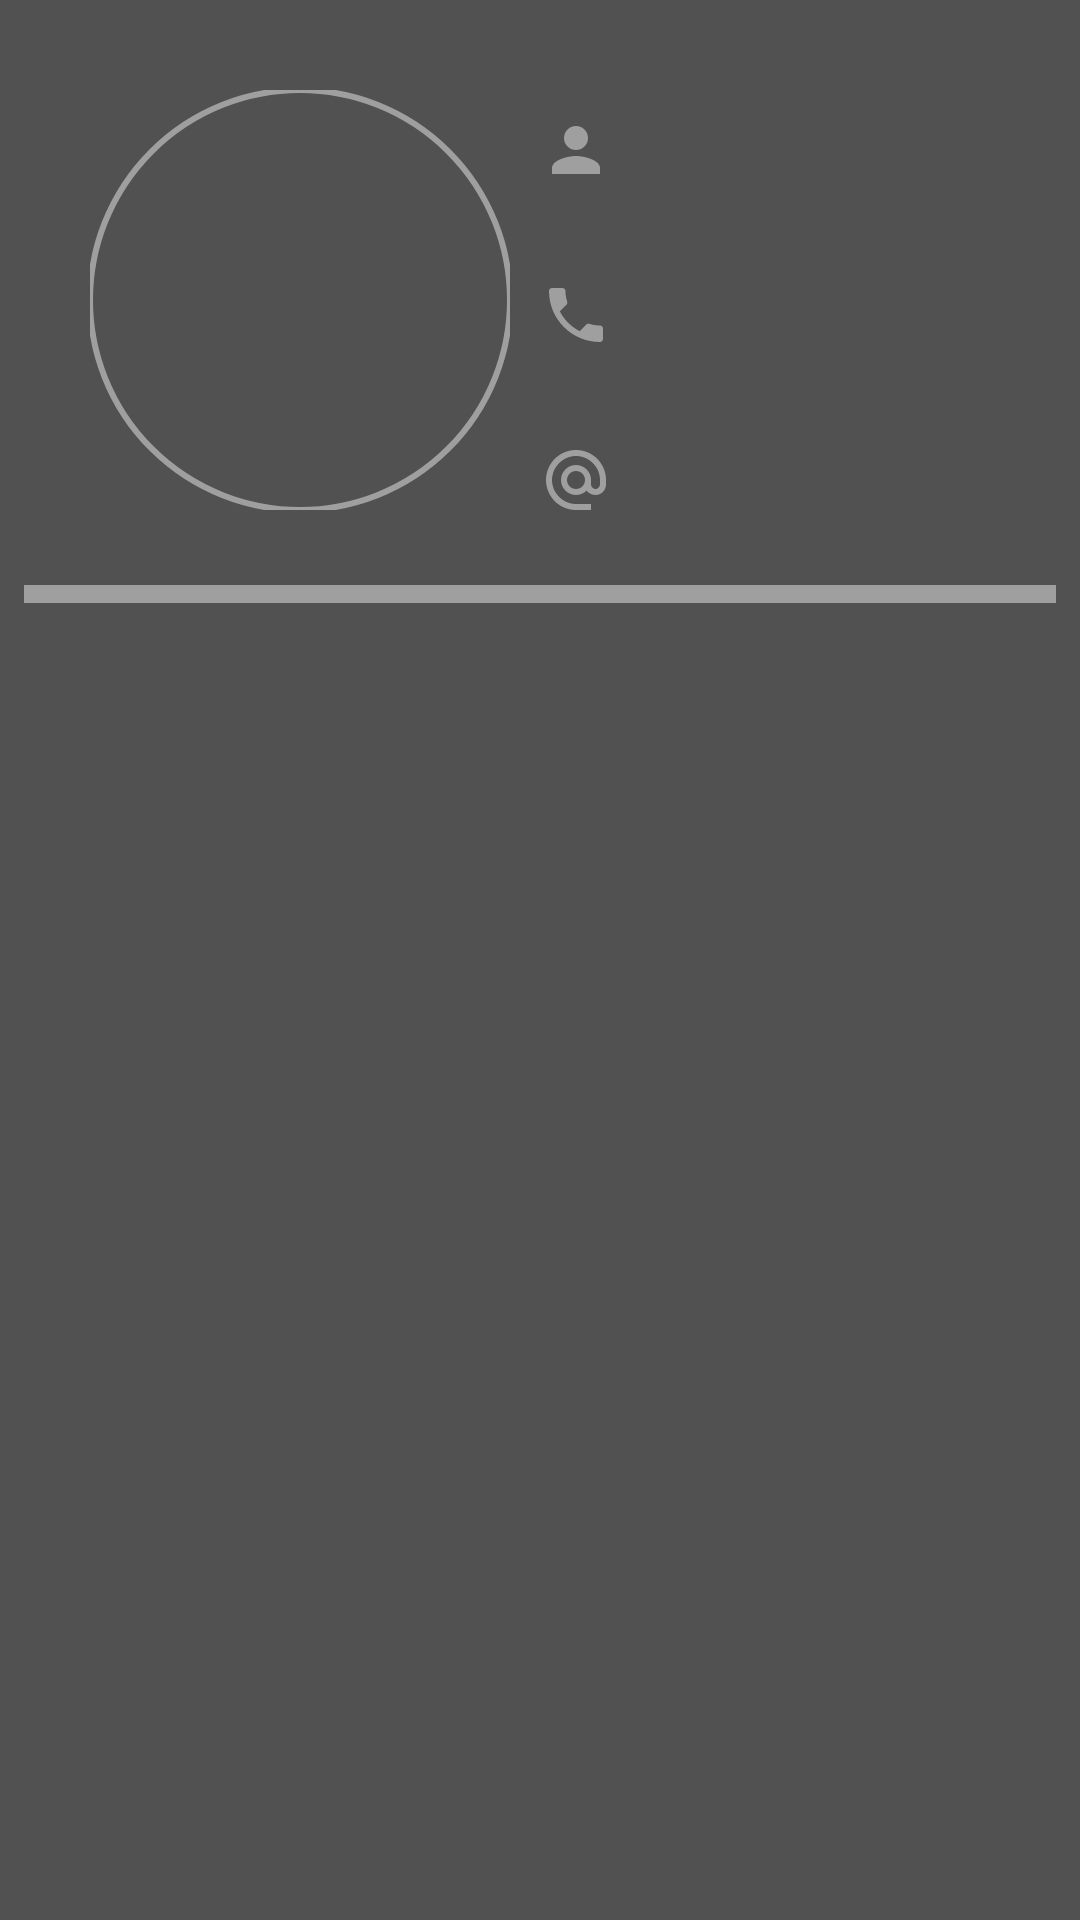

Icons on this 1080*1920 Android screen, each with the point to tap as (x,y):
alternate email: (576,480)
local phone: (576,315)
person: (576,150)
